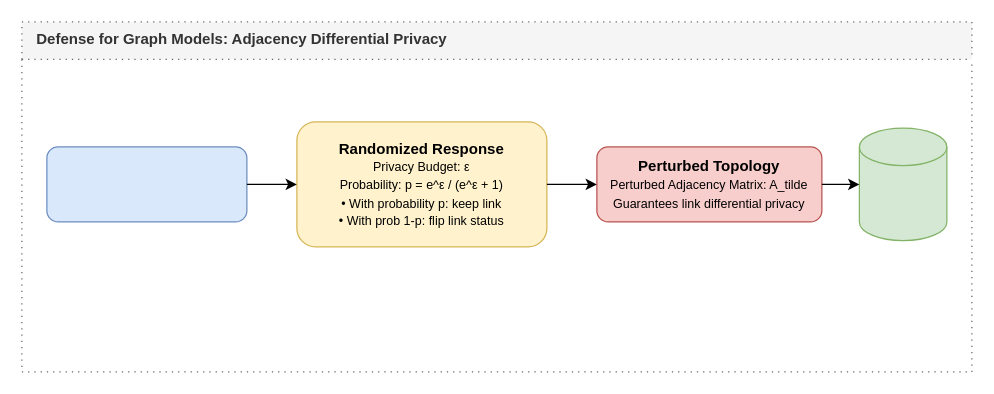
This 994x394 diagram has some shape labels left out. Each missing label, with the box of its shape:
GNN Training: (858, 127, 947, 241)
Original Graph Topology Adjacency Matrix: A True links between nodes: (46, 146, 247, 222)
